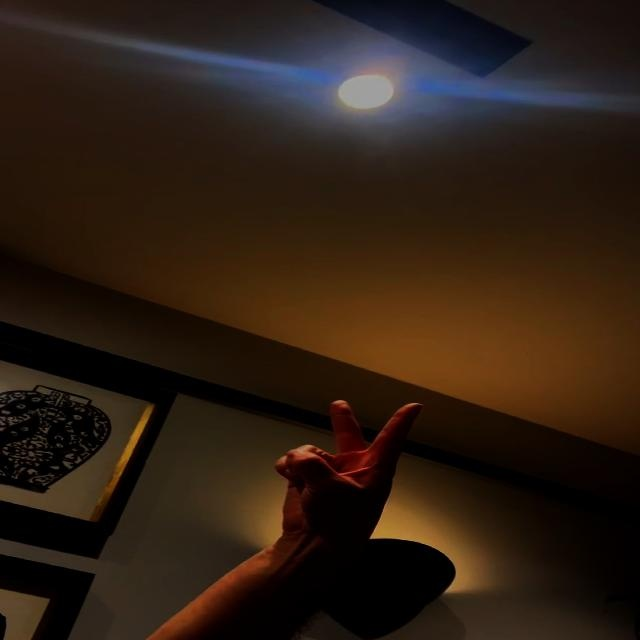Scissors: (276, 396, 423, 547)
